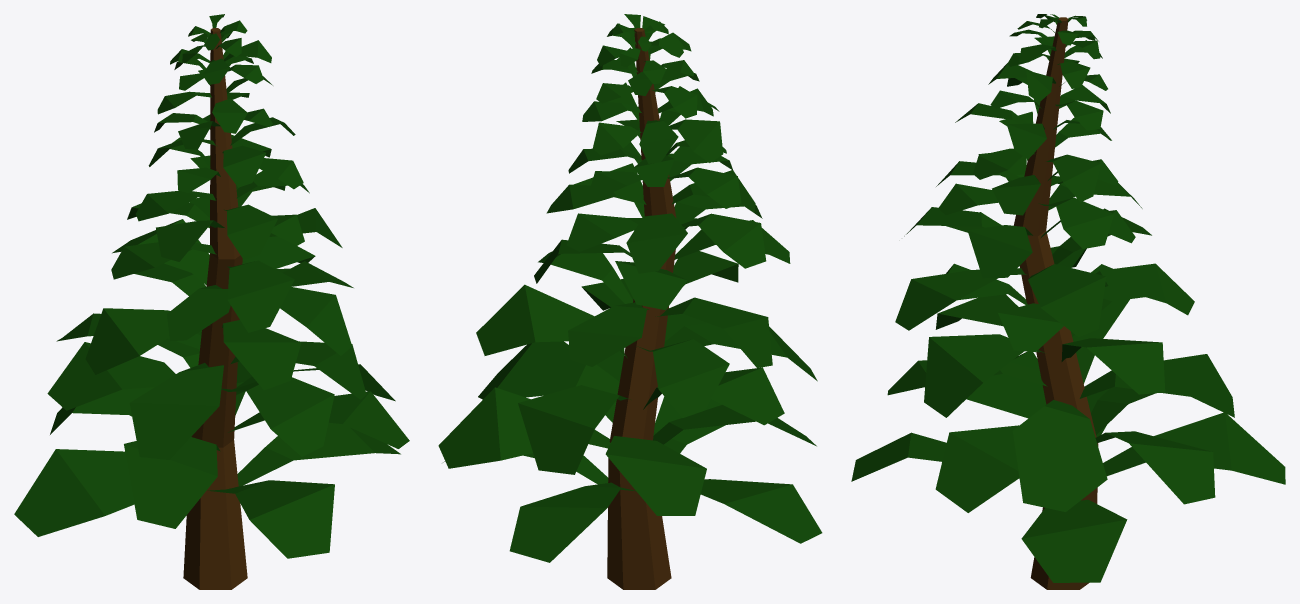
The model's file is tree2.fbx.
3 views of the same model, side by side, from view 1: azimuth 30°, elevation 25°; view 2: azimuth 150°, elevation 25°; view 3: azimuth 270°, elevation 25° (orthographic).
Parts seen in each view (by area): view 1: Cylinder.001, Cylinder; view 2: Cylinder.001, Cylinder; view 3: Cylinder.001, Cylinder.
Part boxes in pixels (x1,y1,x2,y2): Cylinder.001: (14, 14, 409, 558); Cylinder: (183, 28, 247, 589); Cylinder.001: (438, 14, 822, 562); Cylinder: (607, 28, 676, 589); Cylinder.001: (851, 14, 1285, 582); Cylinder: (1014, 17, 1098, 589).
Bounding box in the file's own units: 783 × 1149 × 797.
